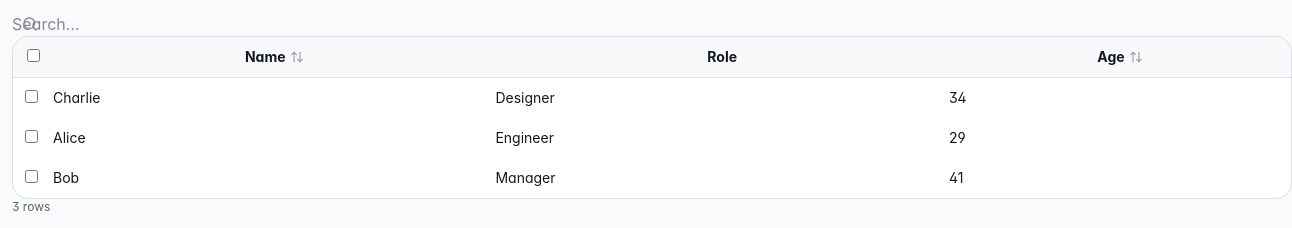
Scenario: DataTable › selects rows and the whole page
Click the checkbox named "Select row 1": (32, 96) [25, 90, 38, 103]
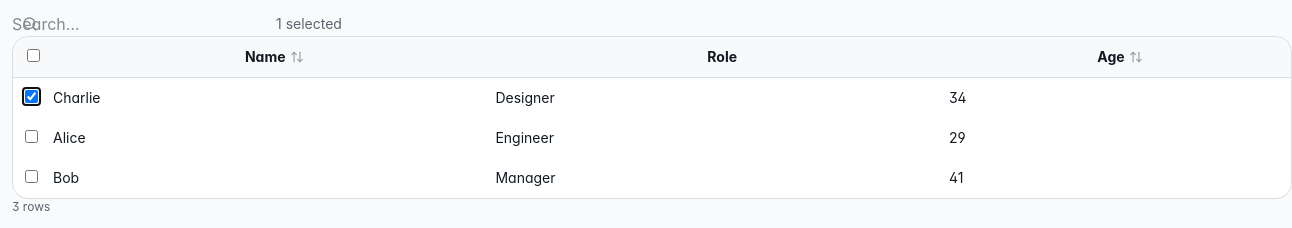
Now the text "1 selected" is shown, box [276, 14, 342, 34]
Click the checkbox named "Select all rows on this page": (33, 56) [26, 49, 40, 62]
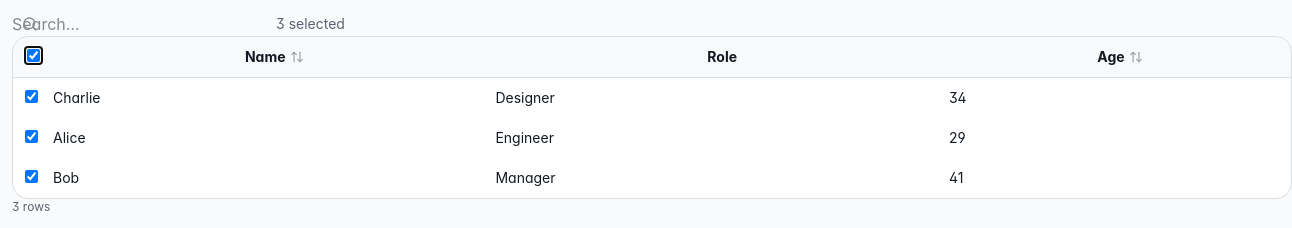
Now the text "3 selected" is shown, box [276, 14, 345, 34]
